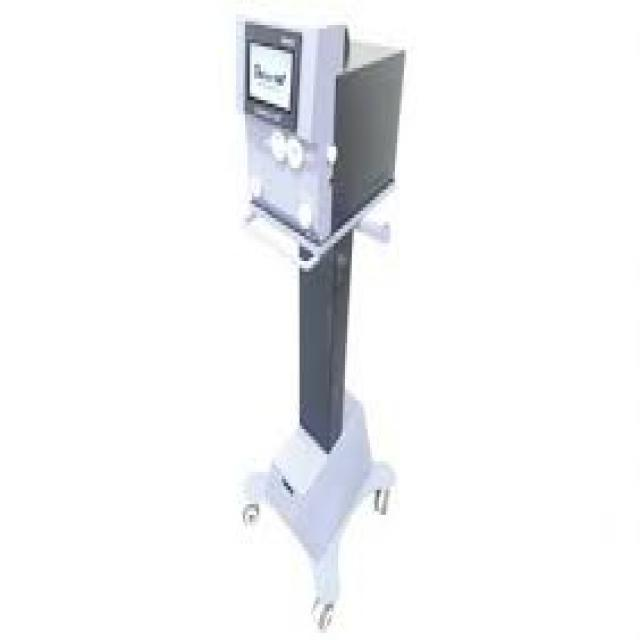ventilator: (193, 46, 475, 612)
